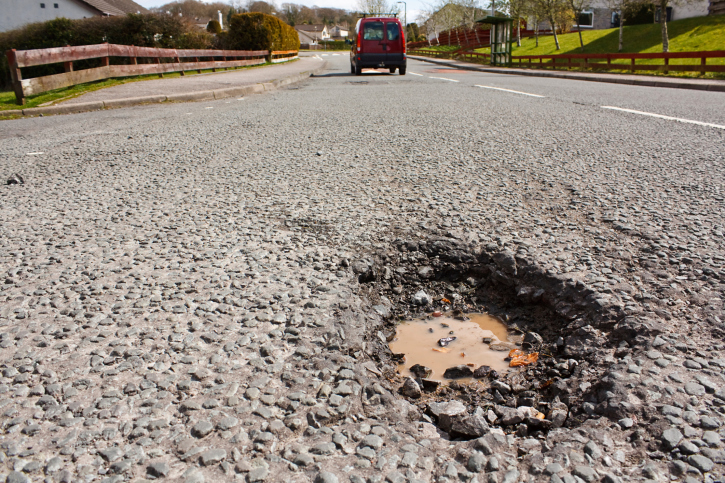pothole: (354, 249, 619, 440)
